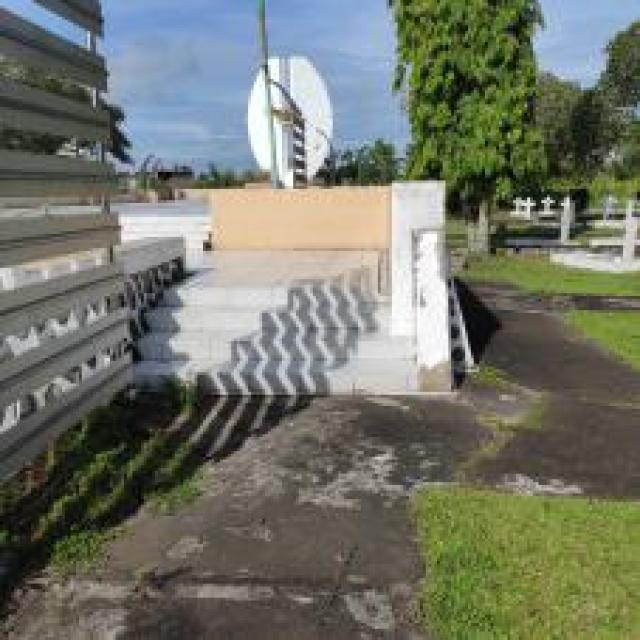upstair: (186, 265, 375, 403)
